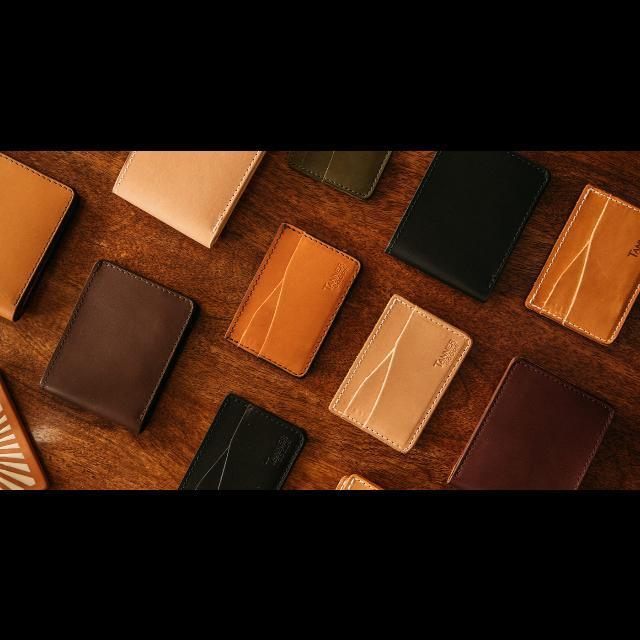wallet: (42, 253, 200, 422), (443, 346, 635, 482), (330, 284, 480, 444), (378, 154, 546, 294), (524, 174, 640, 340), (242, 214, 354, 376), (165, 406, 315, 488)
